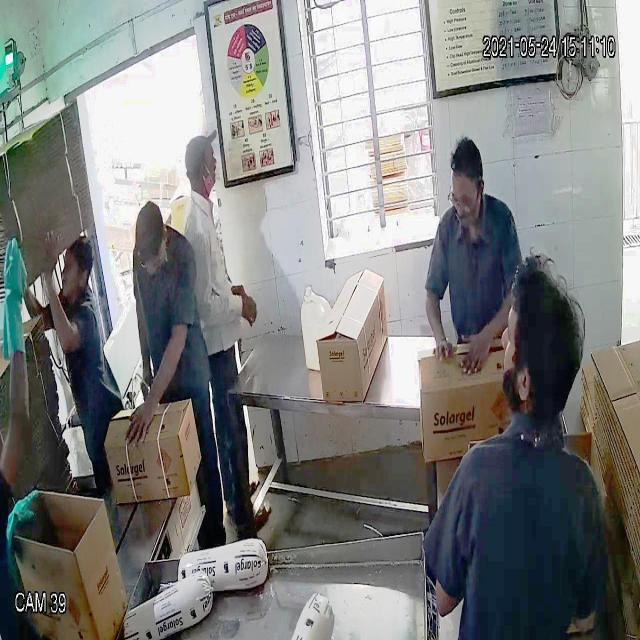glasses: (444, 181, 484, 218)
